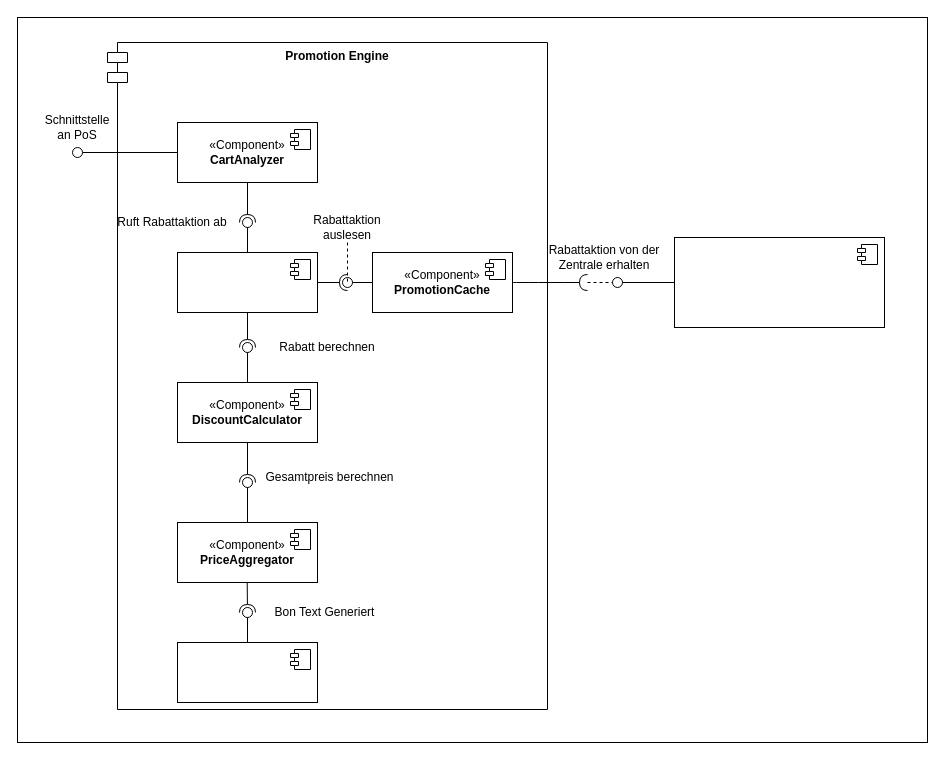
Image size: 945x760. Some labels were removed from this diagram. Here are the shapes that lost their labels. From the top down, the box of each, then its label:
(176, 252, 318, 312): «Component» PromotionMatcher
(674, 236, 884, 328): «Component» PromotionService (Zentrale)
(176, 642, 318, 702): «Component» BonMessageGenerator
